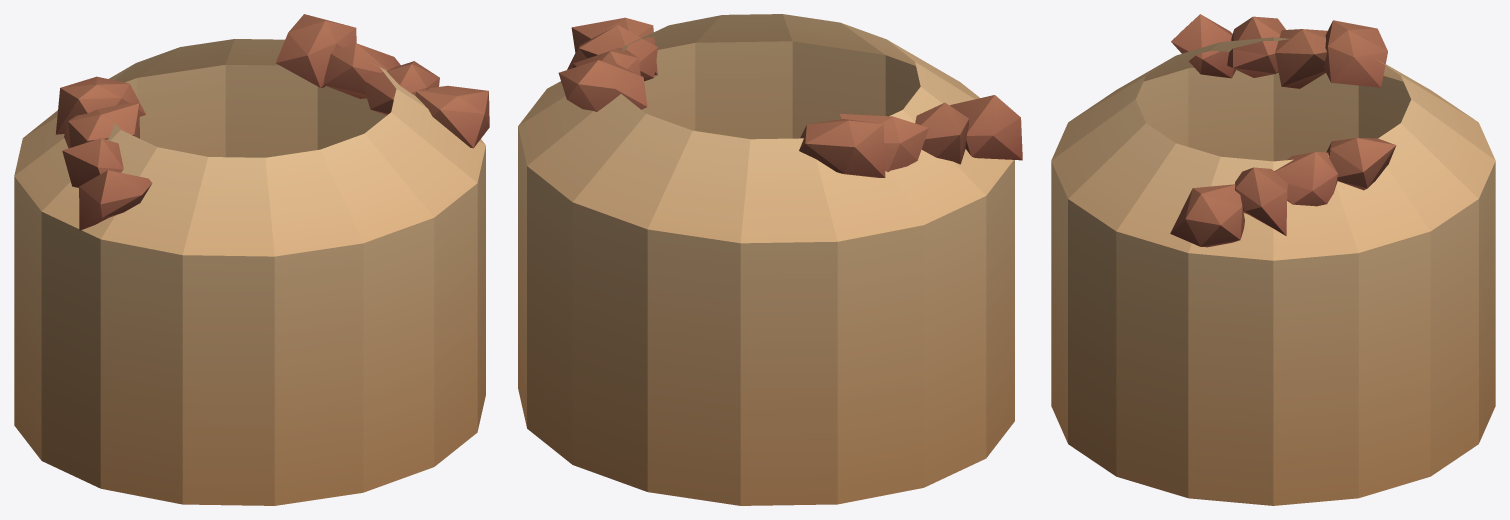
File: mangy_hide_vest.glb
The picture shows the model from 3 angles, left to right: view 1: azimuth 30°, elevation 25°; view 2: azimuth 150°, elevation 25°; view 3: azimuth 270°, elevation 25°; orthographic projection. The views are drawn at different scales.
Parts seen in each view (by area): view 1: mangy_hide_vest; view 2: mangy_hide_vest; view 3: mangy_hide_vest.
Boxes of the visible parts, bbox=[...] form: mangy_hide_vest: bbox=[14, 14, 489, 505]; mangy_hide_vest: bbox=[518, 14, 1022, 505]; mangy_hide_vest: bbox=[1051, 14, 1495, 505].
Size of the model in its own units: 0.9882 by 0.7405 by 0.92.
Materials: 1 (1 with a texture image).
